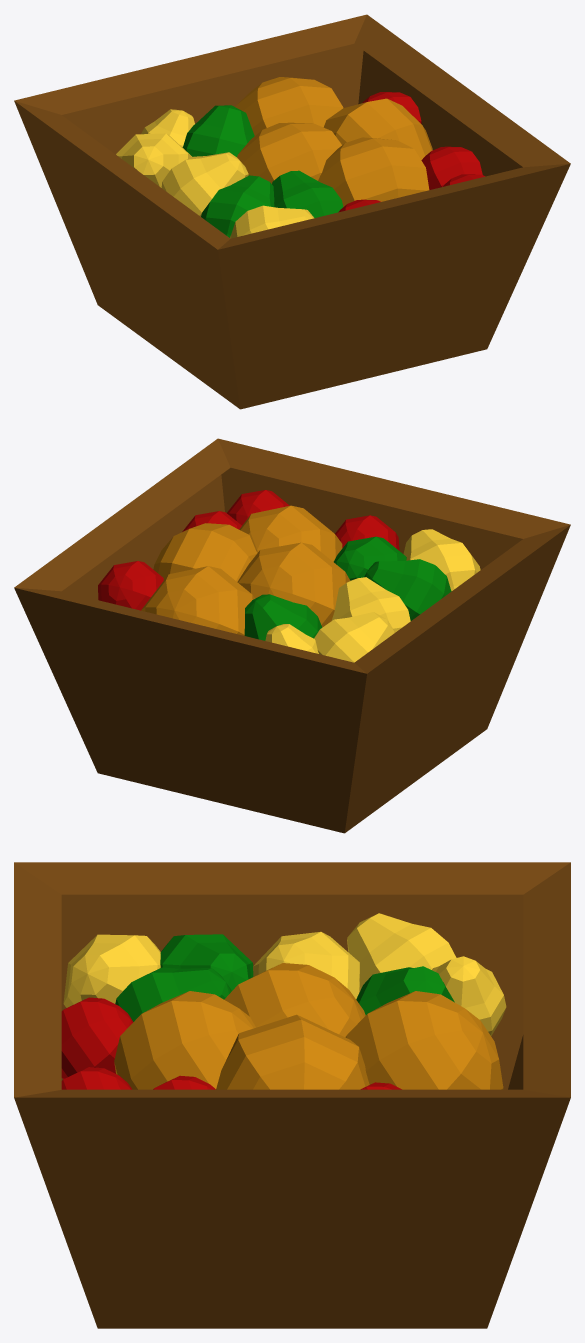
The model's file is Fruit Basket 1.fbx.
3 views of the same model, one above another, from view 1: azimuth 30°, elevation 25°; view 2: azimuth 150°, elevation 25°; view 3: azimuth 270°, elevation 25° (orthographic). The views are drawn at different scales.
Parts seen in each view (by area): view 1: pSphere16; view 2: pSphere16; view 3: pSphere16.
Part boxes in pixels (<box>): pSphere16: <box>14,14,570,409</box>; pSphere16: <box>14,438,570,833</box>; pSphere16: <box>14,862,570,1328</box>.
Size of the model in its own units: 1.89 by 1.09 by 1.89.
1 material, 1 textured.
